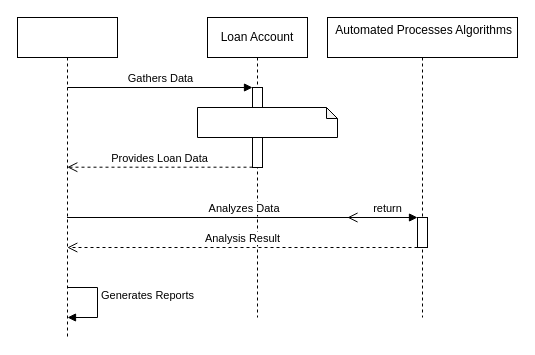
Some shapes in this 535 by 355 pixel diagram are drawn without their labels. Each missing label, with the box of its shape:
Data Collection Process: (196, 106, 338, 138)
Reports Analytics: (16, 16, 118, 338)
